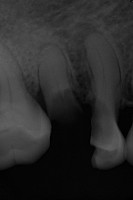Furcation Involvement: (75, 21, 100, 45), (37, 40, 57, 53)
